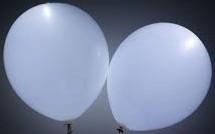Balloon: (2, 3, 109, 121), (108, 22, 212, 130)
